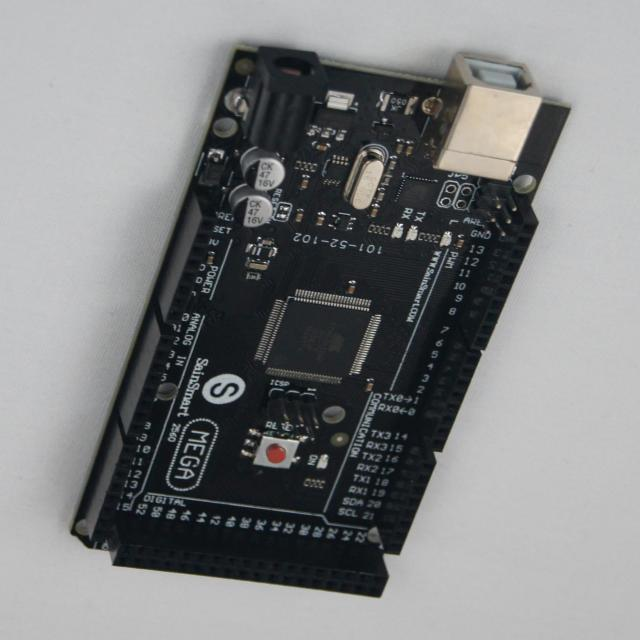Arduino Mega 2560 -Black-: (73, 47, 570, 597)
